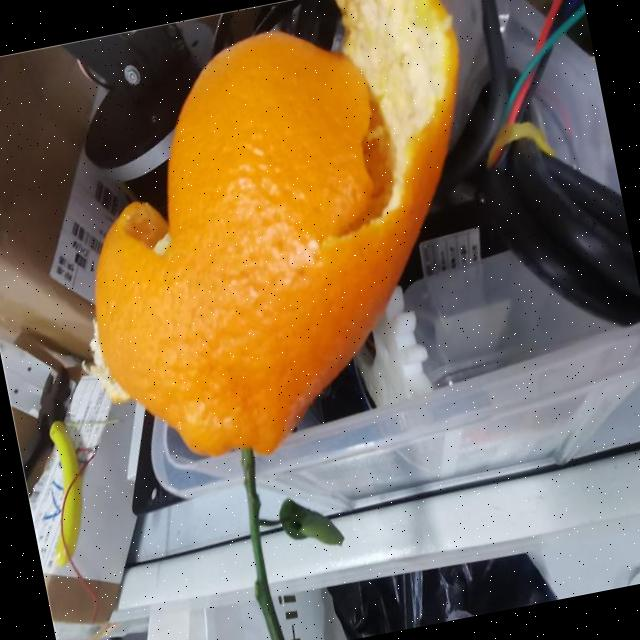orange-peel: (38, 0, 528, 481)
